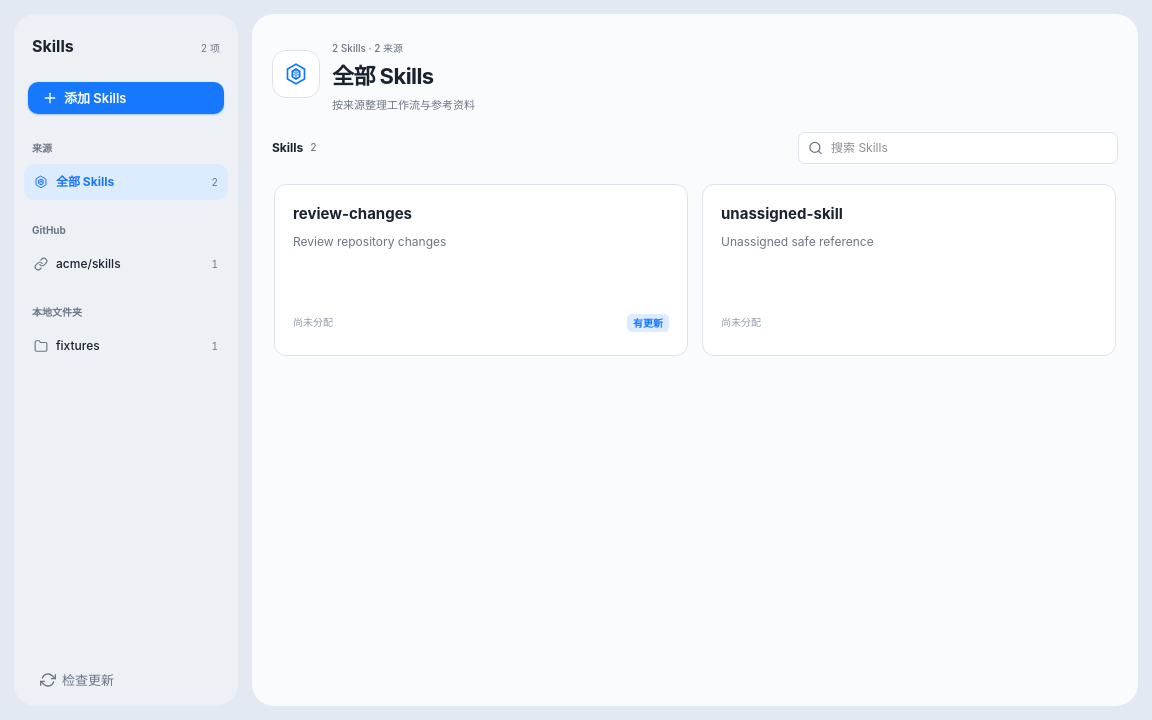
Test: Skills central lifecycle orchestration › opens central intake only from the top-level toolbar
The image size is (1152, 720).
Step 1. Click the button "添加 Skills" → [126, 98], box [28,82,224,114]
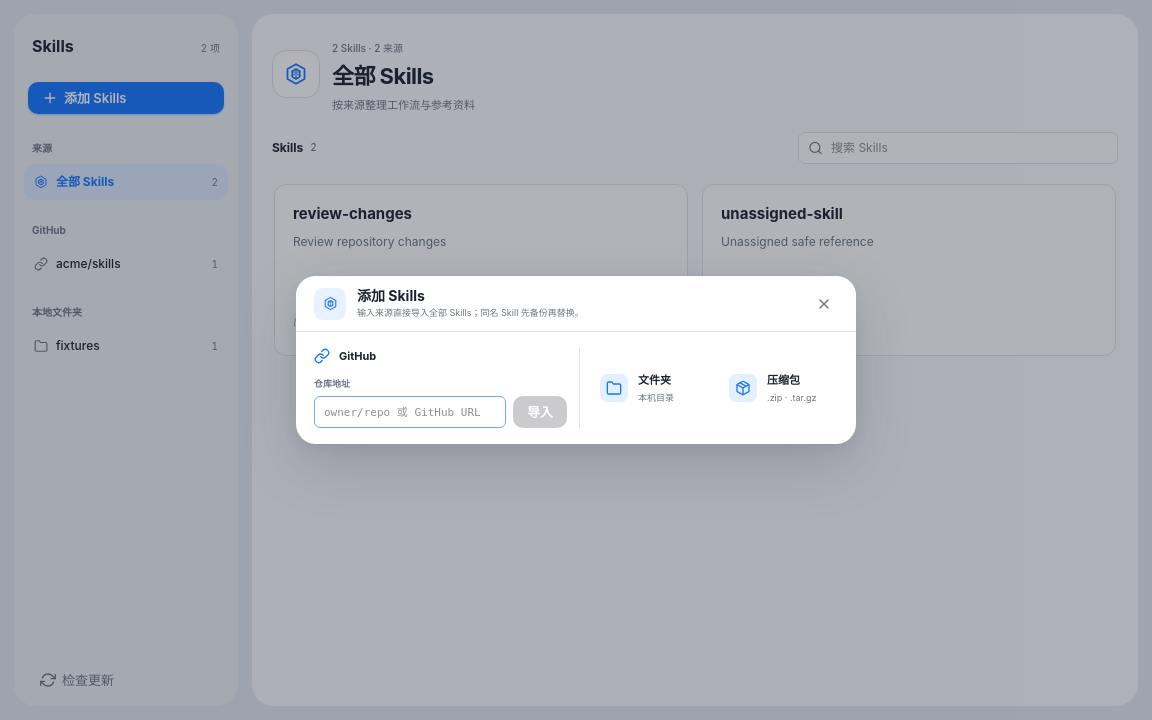
Expected: the dialog "添加 Skills" is shown, [296,276,856,444]
